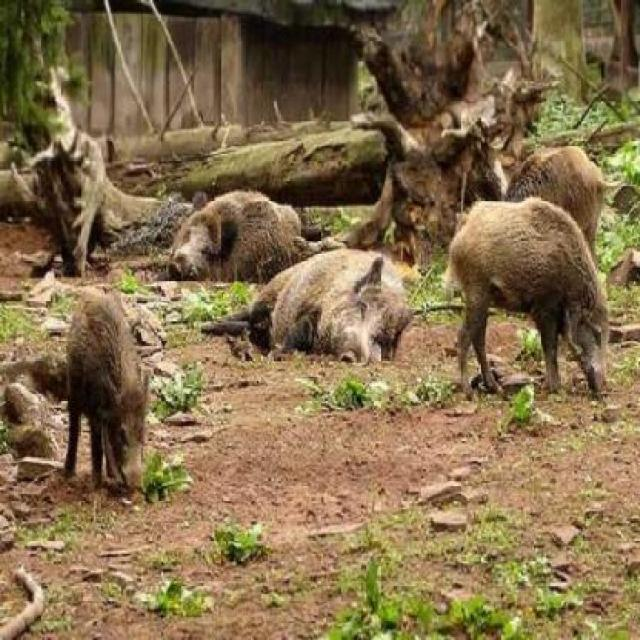pig: (231, 260, 500, 435), (428, 178, 639, 398), (17, 249, 172, 538), (145, 185, 309, 282)
